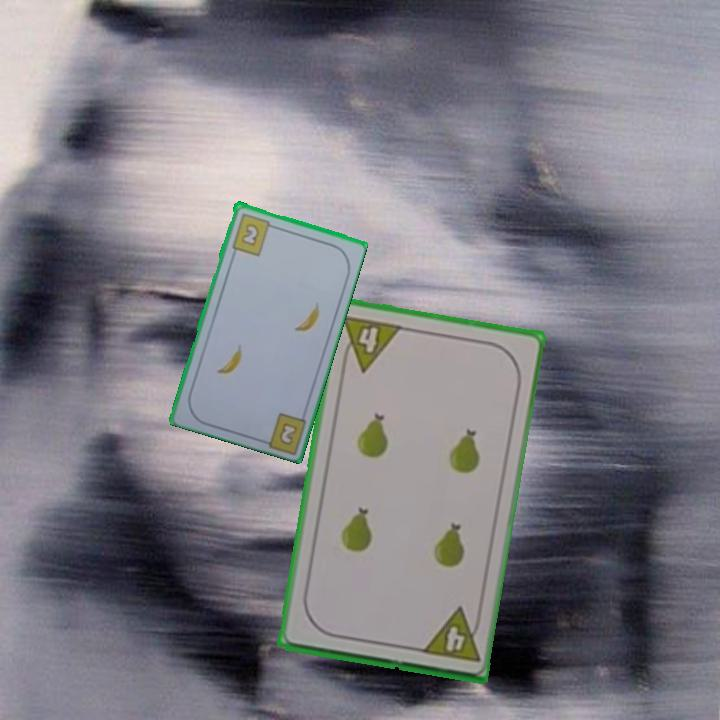2b: (228, 209, 278, 258), (275, 419, 300, 448)
4p: (337, 311, 405, 375), (417, 604, 484, 665)
